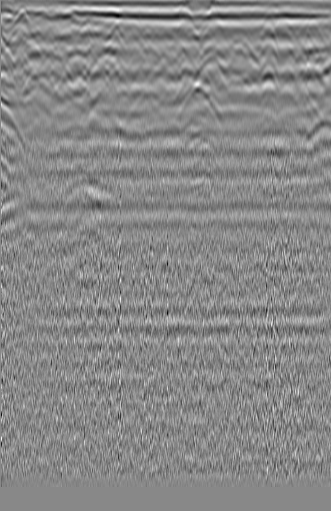상수: (291, 57, 324, 88)
오수: (0, 21, 36, 54)
우수: (139, 49, 181, 89)
